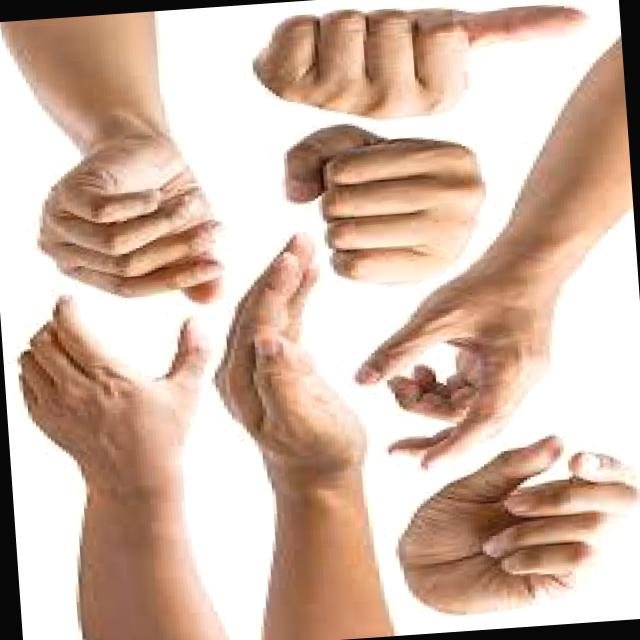Hand: (344, 269, 599, 478), (387, 427, 640, 624), (242, 0, 606, 129), (192, 223, 379, 472), (277, 110, 510, 293), (20, 128, 236, 316), (12, 278, 223, 465)
